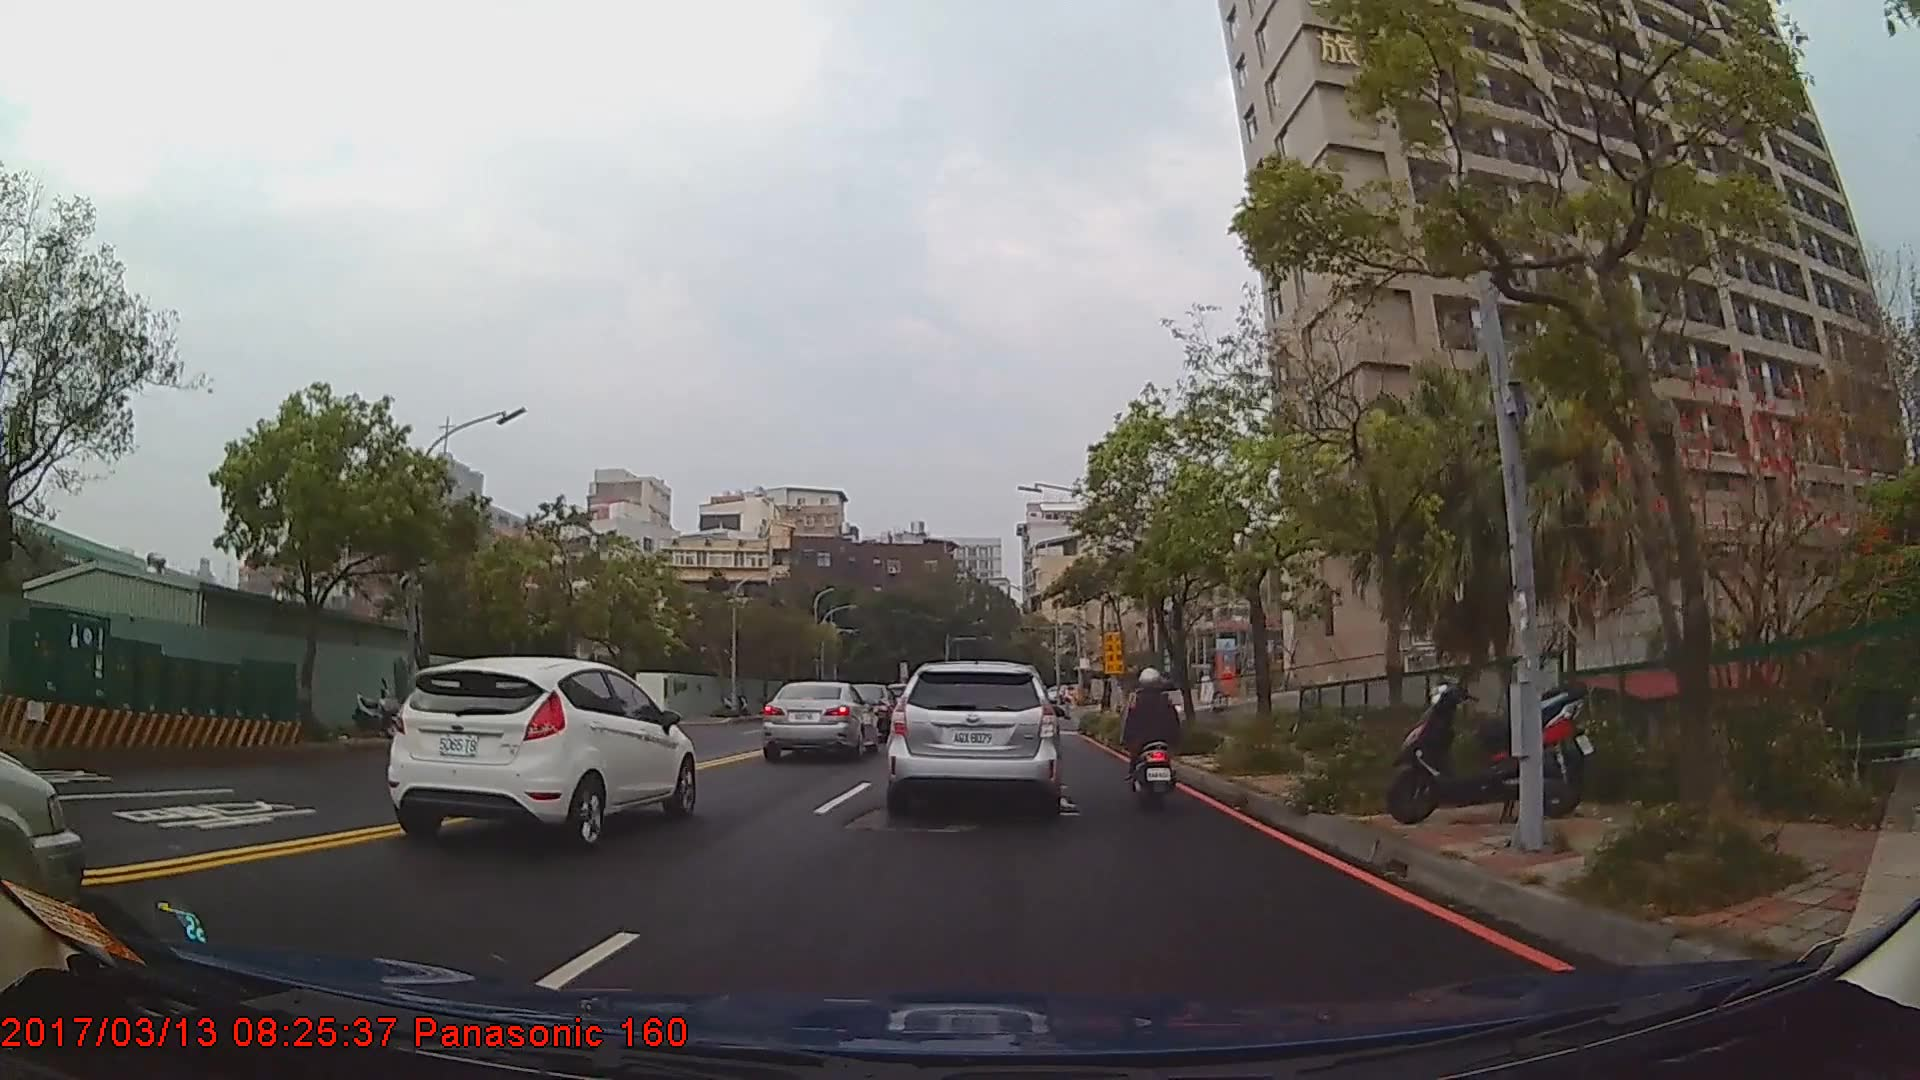rider: (1123, 668, 1181, 813)
vehicle: (385, 657, 695, 844), (887, 661, 1057, 817), (757, 680, 878, 761)
